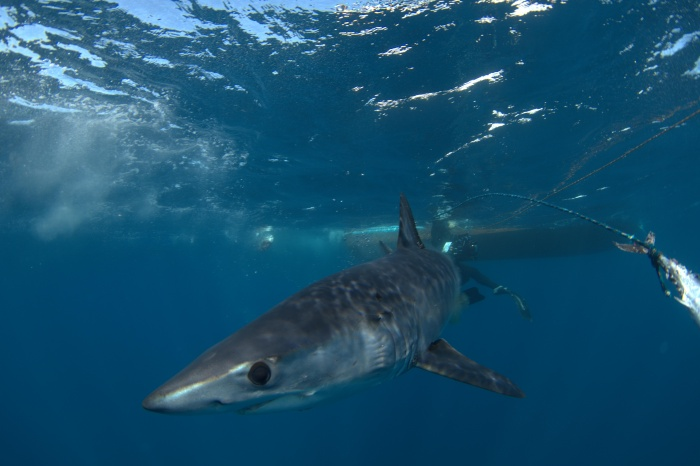Mako: (124, 186, 534, 437)
